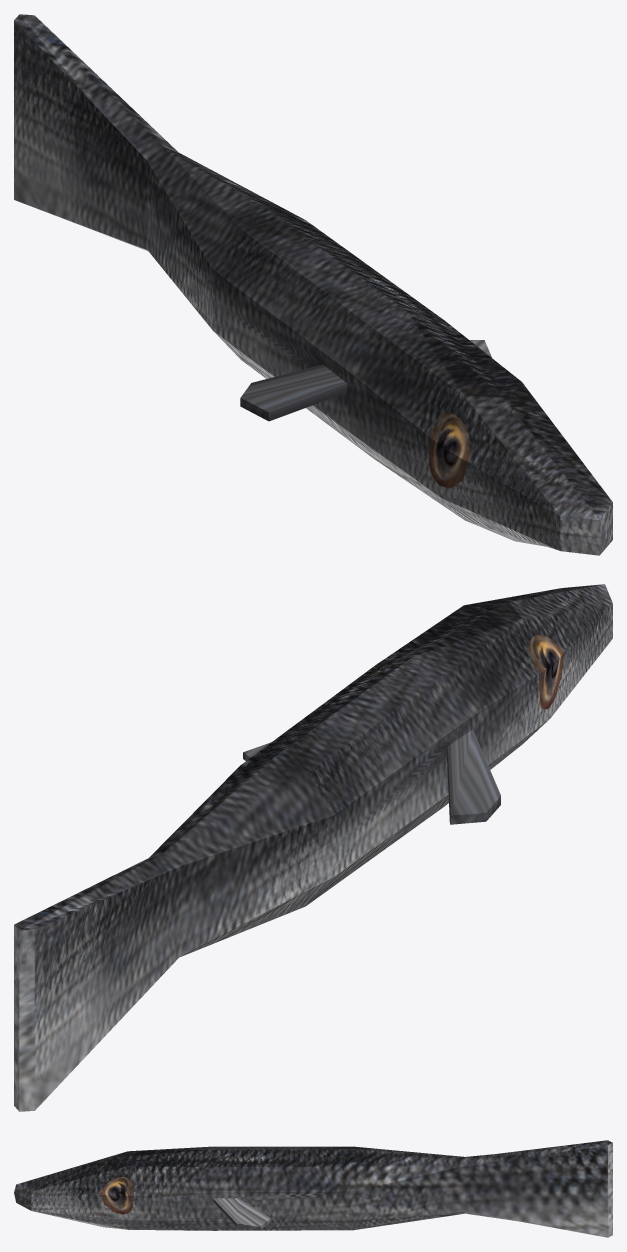
File: small_fish.fbx
The picture shows the model from 3 angles, top to bottom: view 1: azimuth 30°, elevation 25°; view 2: azimuth 150°, elevation 25°; view 3: azimuth 270°, elevation 25°; orthographic projection. The views are drawn at different scales.
Visible parts, largest first — view 1: Cube; view 2: Cube; view 3: Cube.
Part boxes in pixels (<box>): Cube: <box>14,14,612,555</box>; Cube: <box>14,584,612,1111</box>; Cube: <box>14,1140,612,1237</box>.
Size of the model in its own units: 137 by 97.02 by 570.
1 material, 1 textured.
